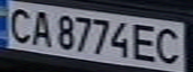4: (109, 19, 133, 60)
7: (69, 15, 93, 53), (90, 16, 112, 56)
8: (51, 11, 75, 51)
A: (24, 8, 57, 47)
C: (151, 25, 187, 66), (3, 5, 36, 44)
E: (130, 20, 163, 63)
